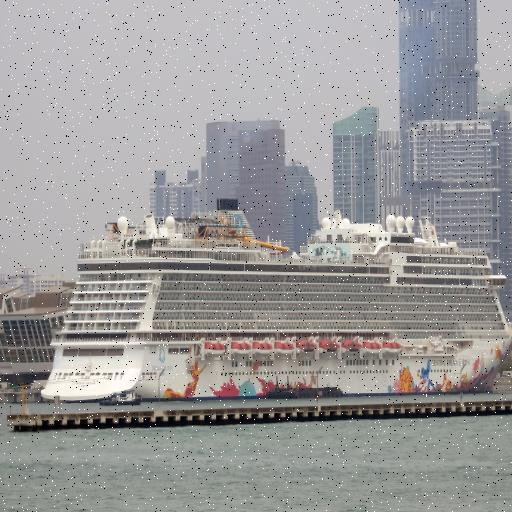cruises: (37, 194, 512, 410)
